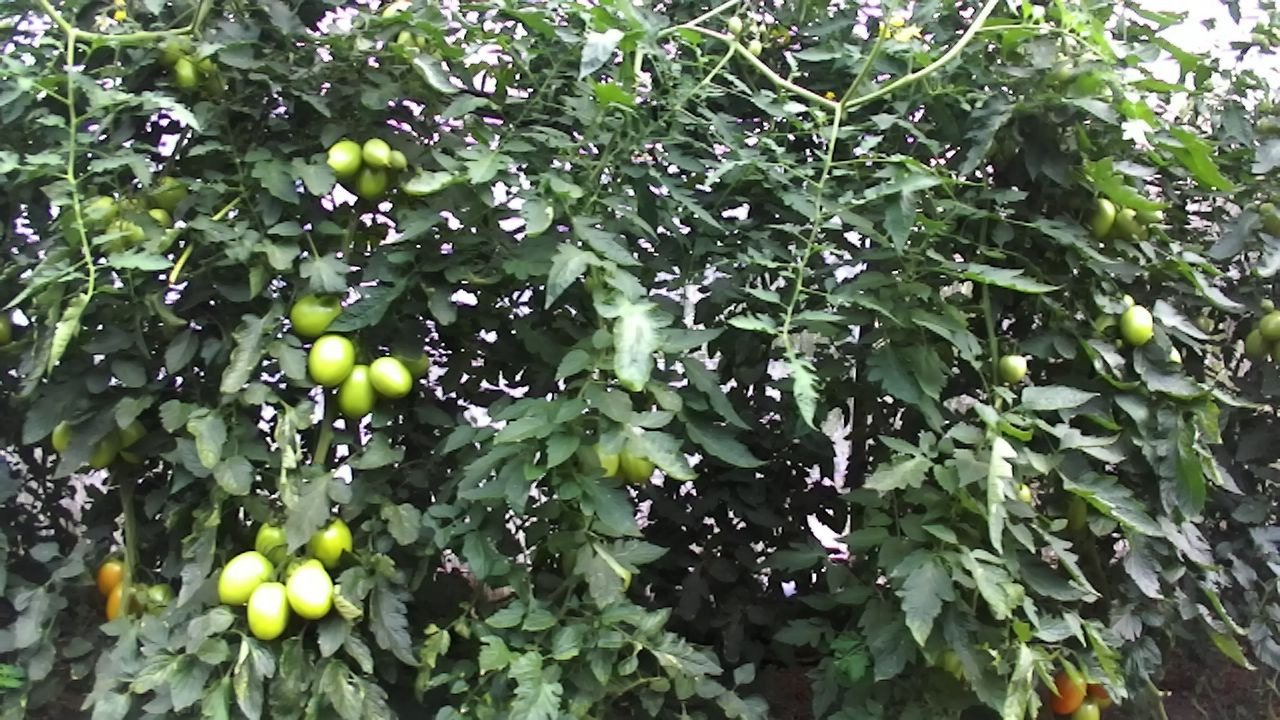tomato: (212, 547, 276, 608), (304, 510, 357, 575), (244, 578, 293, 644), (283, 561, 335, 623), (305, 329, 358, 389), (287, 291, 345, 342), (333, 359, 377, 424), (365, 353, 414, 401), (1047, 666, 1089, 716), (323, 136, 366, 180), (1116, 302, 1155, 348), (349, 162, 389, 205), (92, 555, 128, 600), (1083, 193, 1119, 238), (1112, 205, 1153, 243), (360, 136, 394, 172), (1243, 326, 1271, 367), (997, 352, 1028, 385), (1256, 311, 1280, 344)
